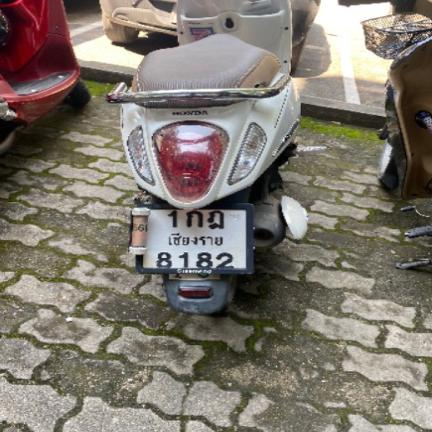1: (165, 209, 181, 228), (176, 251, 190, 269)
2: (216, 251, 235, 269)
8: (153, 251, 173, 268), (194, 251, 214, 268)
A01: (185, 211, 205, 228)
A14: (207, 210, 226, 229)
CRI: (165, 232, 225, 247)
